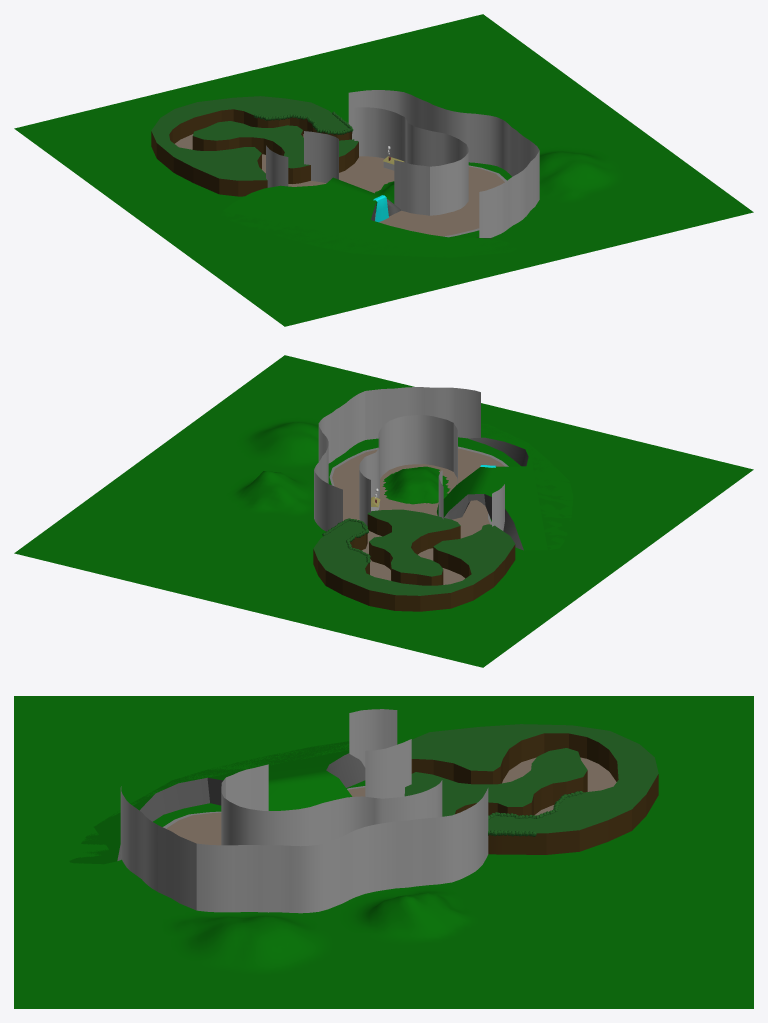
The model's file is Minas2d v1.fbx.
3 renders of one model, top to bottom at view 1: azimuth 30°, elevation 25°; view 2: azimuth 150°, elevation 25°; view 3: azimuth 270°, elevation 25°, orthographic. The views are drawn at different scales.
Visible parts, largest first — view 1: Fundo, Floresta, Tunel, Parede_Invisivel, pPlane1, Pista, pPlane2; view 2: Fundo, Floresta, Tunel, Parede_Invisivel, Pista, pPlane1, pPlane2; view 3: Fundo, Parede_Invisivel, Floresta, Tunel, pPlane1, pPlane2, Pista.
Part boxes in pixels (x1,y1,x2,y2): Fundo: (14, 14, 753, 326); Floresta: (151, 96, 358, 196); Tunel: (221, 177, 516, 257); Parede_Invisivel: (348, 90, 539, 237); pPlane1: (354, 107, 468, 215); Pista: (175, 134, 506, 237); pPlane2: (266, 131, 338, 187); Fundo: (14, 355, 753, 667); Floresta: (313, 509, 515, 611); Tunel: (437, 423, 573, 550); Parede_Invisivel: (314, 387, 480, 531); Pista: (329, 446, 508, 584); pPlane1: (359, 415, 457, 525); pPlane2: (438, 470, 504, 530); Fundo: (14, 696, 753, 1008); Parede_Invisivel: (120, 786, 488, 913); Floresta: (404, 724, 658, 854); Tunel: (69, 741, 365, 864); pPlane1: (221, 764, 442, 846); pPlane2: (349, 709, 411, 798); Pista: (163, 757, 616, 845).
Bounding box in the file's own units: 30 × 3.5 × 30.
